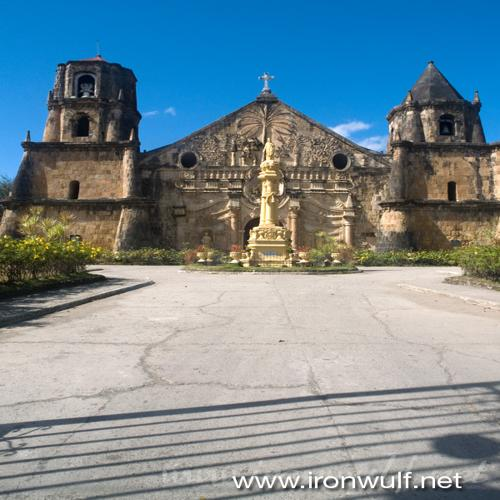Miagao Church: (12, 51, 500, 272)
